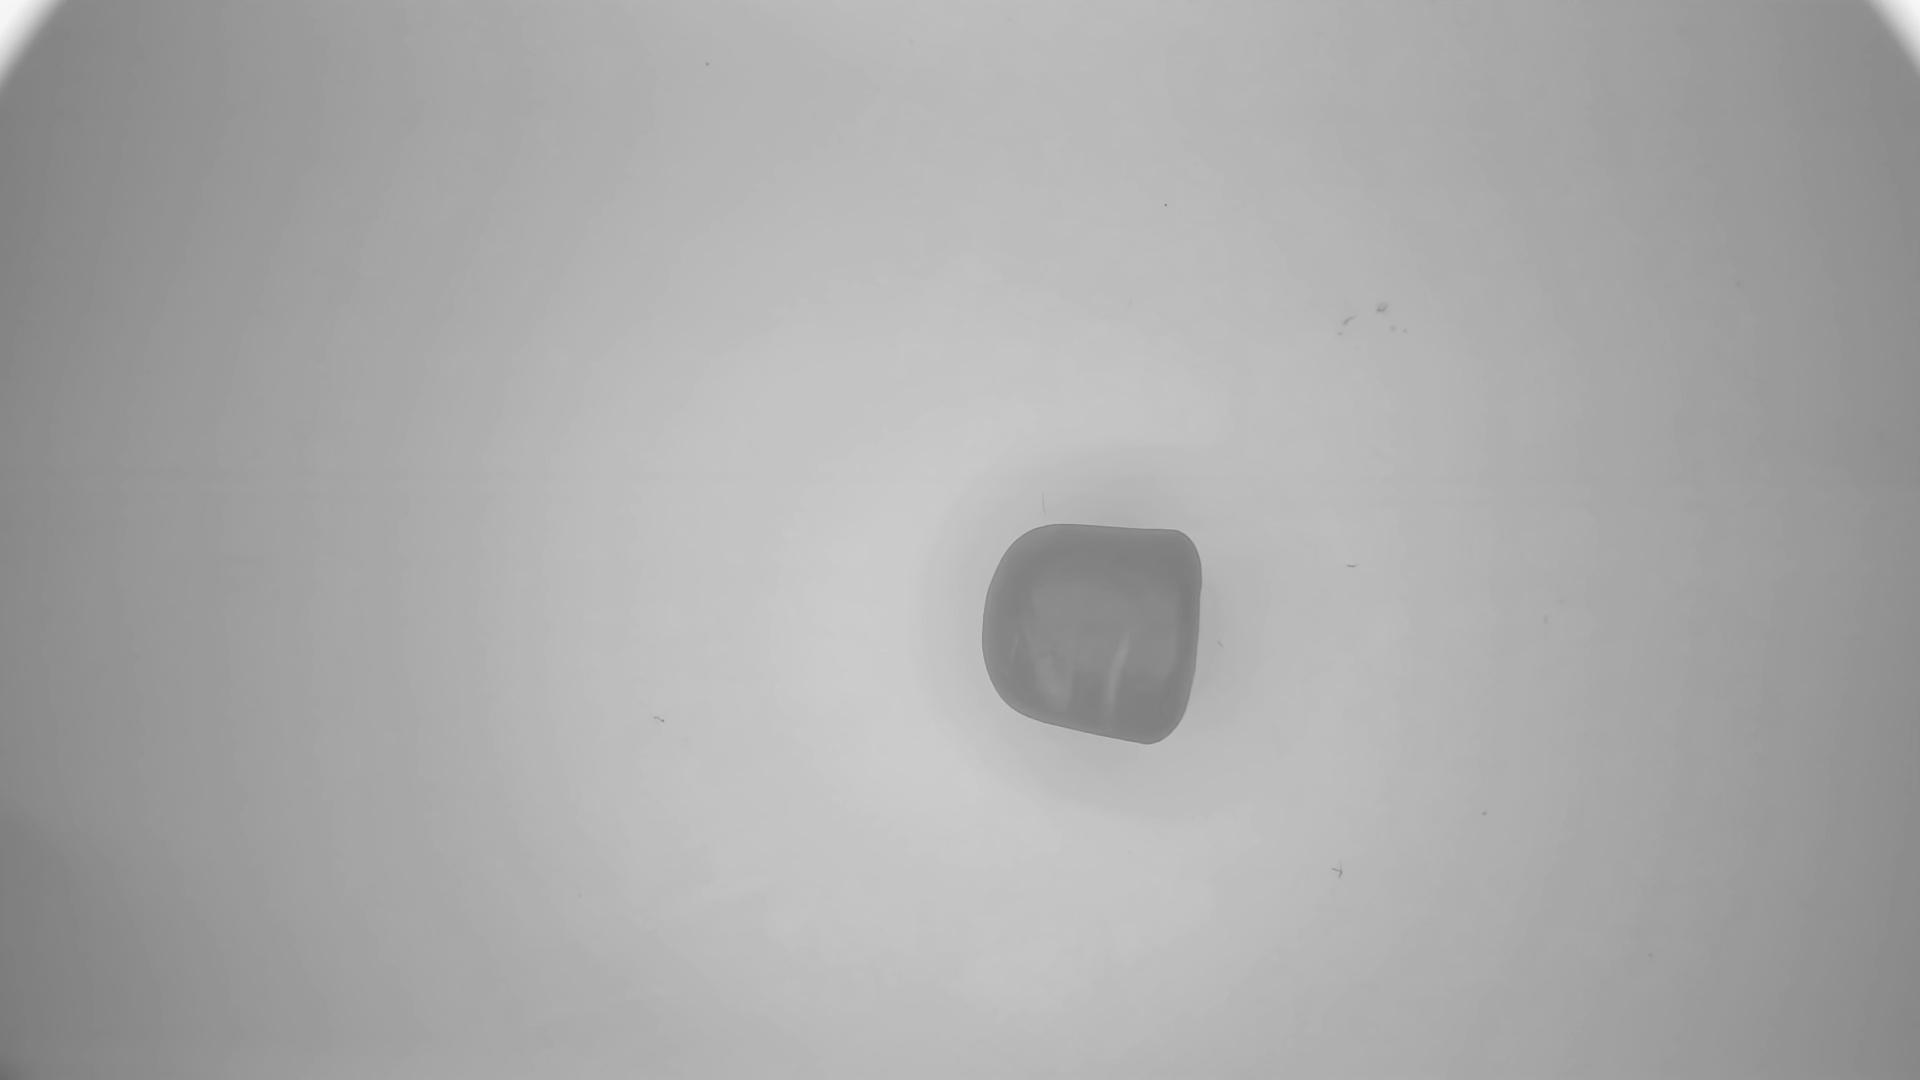abnormal: (980, 520, 1204, 752)
